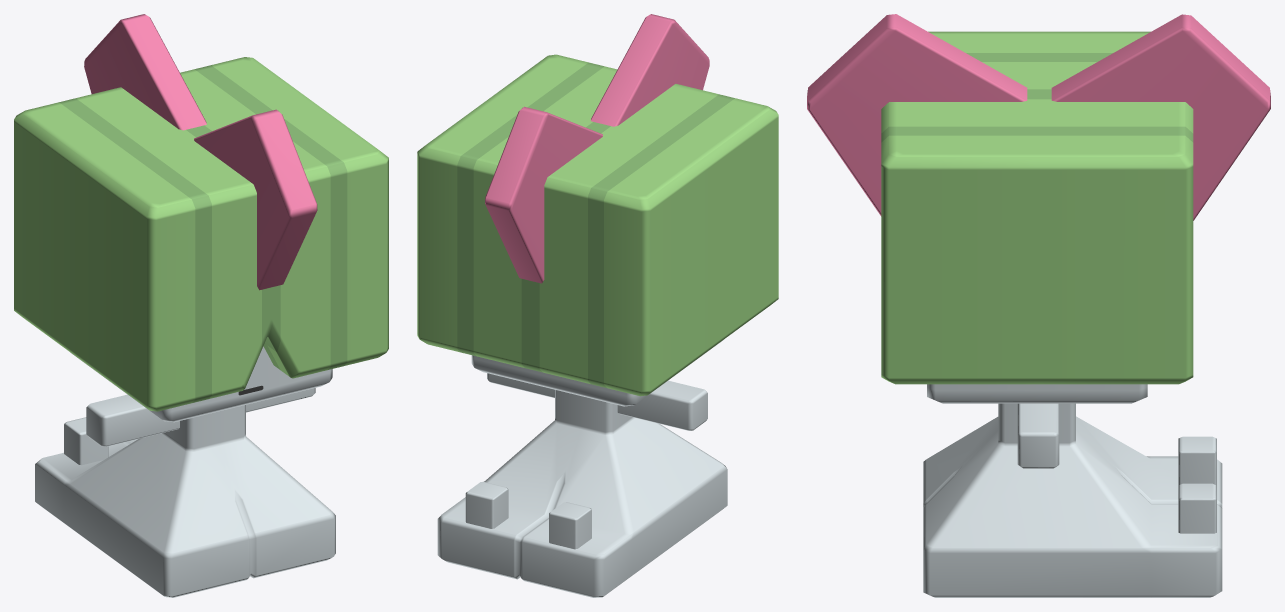
The picture shows the model from 3 angles, left to right: view 1: azimuth 30°, elevation 25°; view 2: azimuth 150°, elevation 25°; view 3: azimuth 270°, elevation 25°; orthographic projection. The views are drawn at different scales.
Parts seen in each view (by area): view 1: 0280_ralts; view 2: 0280_ralts; view 3: 0280_ralts.
Part boxes in pixels (x1,y1,x2,y2): 0280_ralts: [14, 14, 388, 597]; 0280_ralts: [417, 14, 778, 597]; 0280_ralts: [807, 14, 1270, 597].
Size of the model in its own units: 0.9254 by 1.74 by 1.38.
1 material, 1 textured.
